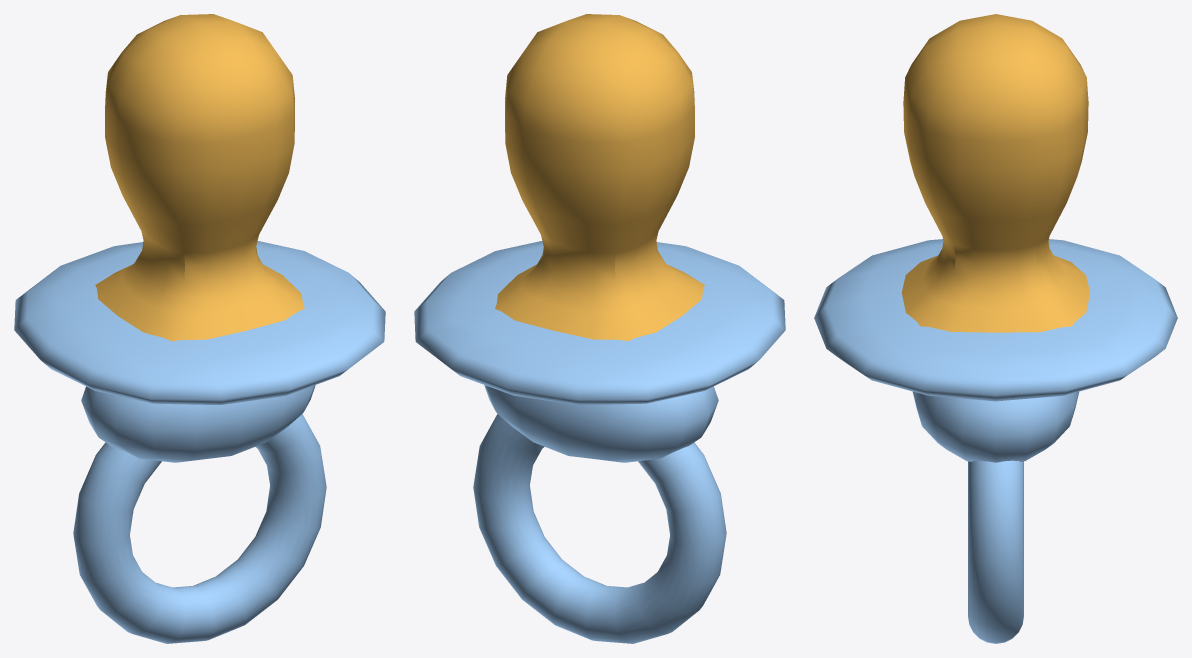
File: SM_Soother.fbx
The picture shows the model from 3 angles, left to right: view 1: azimuth 30°, elevation 25°; view 2: azimuth 150°, elevation 25°; view 3: azimuth 270°, elevation 25°; orthographic projection.
Visible parts, largest first — view 1: pCube1, pCube2, pTorus1, pCube3; view 2: pCube1, pCube2, pTorus1, pCube3; view 3: pCube1, pCube2, pTorus1, pCube3.
Boxes of the visible parts, <box> form: pCube1: <box>95,14,304,341</box>; pCube2: <box>14,241,385,404</box>; pTorus1: <box>73,414,326,643</box>; pCube3: <box>81,385,315,462</box>; pCube1: <box>495,14,704,341</box>; pCube2: <box>414,241,785,404</box>; pTorus1: <box>473,414,726,643</box>; pCube3: <box>484,385,718,462</box>; pCube1: <box>901,14,1090,332</box>; pCube2: <box>814,239,1177,401</box>; pTorus1: <box>968,460,1023,643</box>; pCube3: <box>912,391,1079,462</box>.
Bounding box in the file's own units: 7.79 × 14.35 × 7.79.
